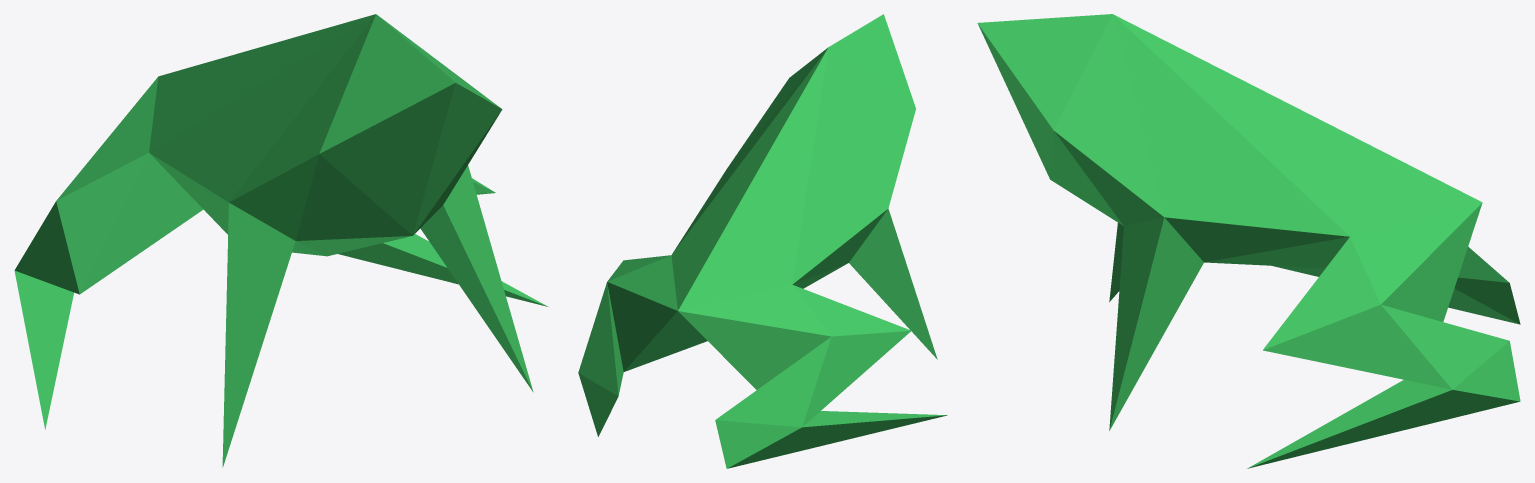
The model's file is frog.glb.
The picture shows the model from 3 angles, left to right: view 1: azimuth 30°, elevation 25°; view 2: azimuth 150°, elevation 25°; view 3: azimuth 270°, elevation 25°; orthographic projection. The views are drawn at different scales.
Parts seen in each view (by area): view 1: rana60.001; view 2: rana60.001; view 3: rana60.001.
Boxes of the visible parts, box(x1,y1,x2,y2) form: rana60.001: box(14, 14, 548, 467); rana60.001: box(578, 14, 947, 468); rana60.001: box(977, 14, 1520, 468).
Size of the model in its own units: 1.4 by 1.1 by 1.54.
